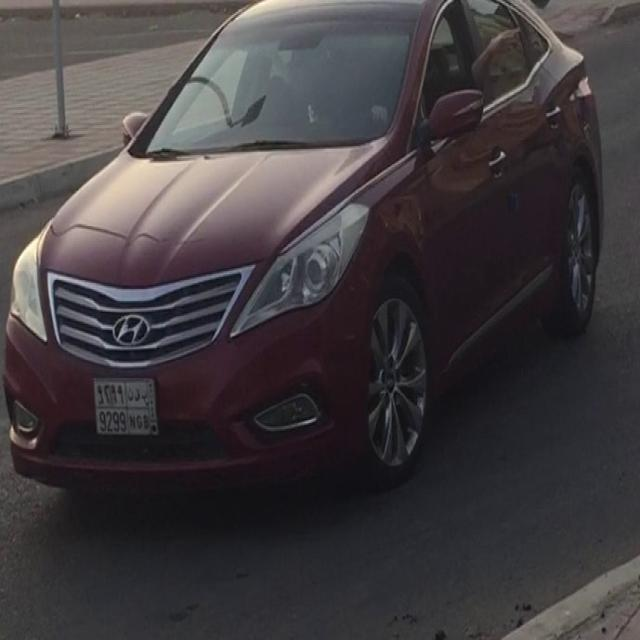Car-plate: (87, 367, 166, 457)
